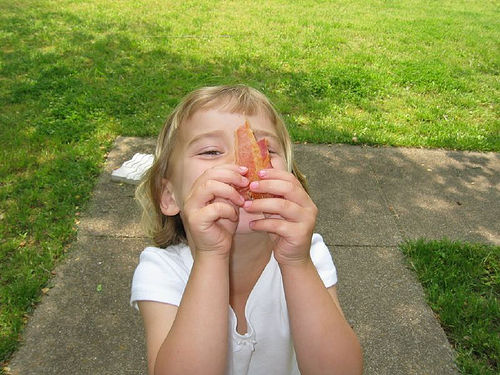without_mask: (138, 76, 321, 258)
